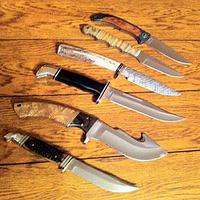knife: (4, 4, 194, 195), (11, 85, 168, 163), (30, 55, 183, 127), (2, 127, 139, 195)
